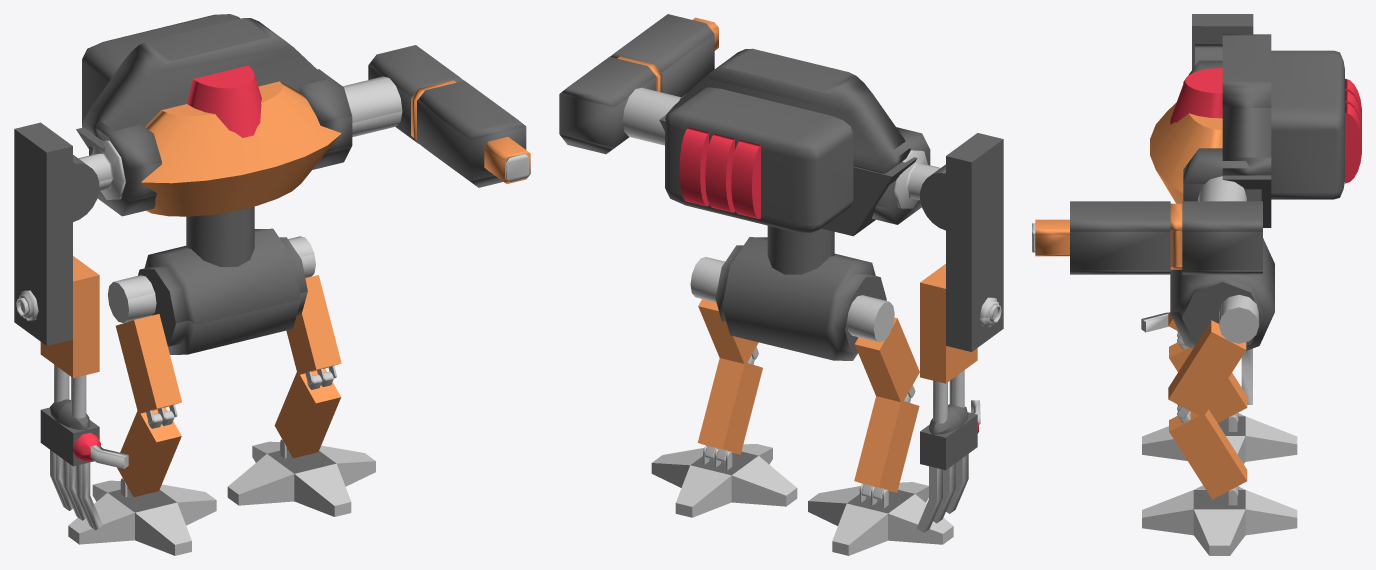
Rendered from Enemy.fbx.
The picture shows the model from 3 angles, left to right: view 1: azimuth 30°, elevation 25°; view 2: azimuth 150°, elevation 25°; view 3: azimuth 270°, elevation 25°; orthographic projection. The views are drawn at different scales.
Parts seen in each view (by area): view 1: Cylindrical Lathe, Cube.035, Cube.055, Cylinder.004, Cube.052, Cylinder.003, Cube.003, Cube.056, Cylinder.005, Cube.019, Cube.048, Cube.007 (+25 smaller); view 2: Cube.036, Cylindrical Lathe, Cube.055, Cube.035, Cube.050, Cube.052, Cube.007, Cube.019, Cube.056, Cube.003, Cylinder.002, Cube.034 (+24 smaller); view 3: Cube.036, Cube.052, Cube.035, Cube.050, Cylindrical Lathe, Cube.015, Cube.019, Cylinder.004, Cube.033, Cylinder.005, Cube.049, Cube.026 (+15 smaller).
Boxes of the visible parts, bbox=[...] form: Cylindrical Lathe: bbox=[138, 228, 307, 354]; Cube.035: bbox=[82, 18, 326, 140]; Cube.055: bbox=[14, 122, 72, 345]; Cylinder.004: bbox=[141, 81, 341, 183]; Cube.052: bbox=[417, 80, 526, 187]; Cylinder.003: bbox=[141, 134, 340, 216]; Cube.003: bbox=[115, 314, 181, 413]; Cube.056: bbox=[40, 256, 99, 378]; Cylinder.005: bbox=[187, 65, 261, 137]; Cube.019: bbox=[274, 368, 341, 458]; Cube.048: bbox=[89, 122, 161, 216]; Cube.007: bbox=[117, 407, 181, 496]; Cube.036: bbox=[665, 87, 853, 232]; Cylindrical Lathe: bbox=[715, 237, 886, 360]; Cube.055: bbox=[946, 133, 1003, 351]; Cube.035: bbox=[665, 48, 910, 173]; Cube.050: bbox=[559, 56, 656, 154]; Cube.052: bbox=[610, 14, 714, 97]; Cube.007: bbox=[854, 396, 919, 492]; Cube.019: bbox=[697, 358, 762, 454]; Cube.056: bbox=[920, 264, 977, 383]; Cube.003: bbox=[854, 317, 919, 401]; Cylinder.002: bbox=[767, 225, 834, 274]; Cube.034: bbox=[659, 115, 917, 236]; Cube.036: bbox=[1271, 50, 1344, 199]; Cube.052: bbox=[1070, 201, 1170, 274]; Cube.035: bbox=[1222, 34, 1271, 175]; Cube.050: bbox=[1182, 201, 1262, 274]; Cylindrical Lathe: bbox=[1170, 238, 1274, 350]; Cube.015: bbox=[1168, 320, 1246, 417]; Cube.019: bbox=[1169, 409, 1247, 499]; Cylinder.004: bbox=[1150, 102, 1222, 192]; Cube.033: bbox=[1193, 509, 1245, 555]; Cylinder.005: bbox=[1170, 68, 1222, 124]; Cube.049: bbox=[1183, 148, 1261, 201]; Cube.026: bbox=[1245, 416, 1297, 461].
Size of the model in its own units: 402 by 413 by 287.
